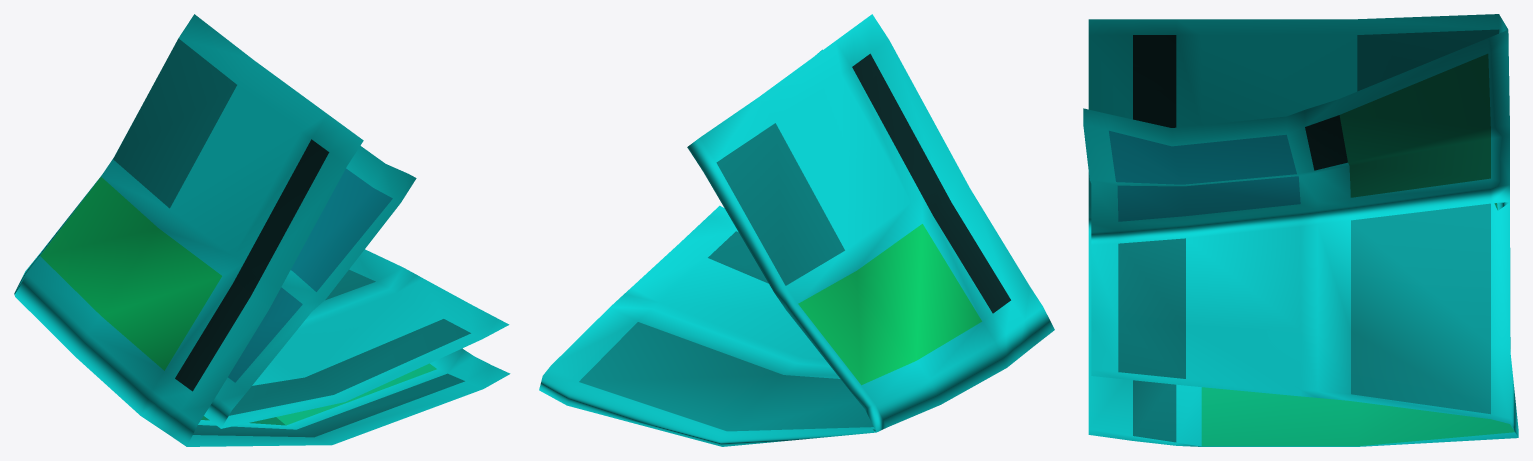
File: OldNewspaper001.glb
3 renders of one model, left to right at view 1: azimuth 30°, elevation 25°; view 2: azimuth 150°, elevation 25°; view 3: azimuth 270°, elevation 25°, orthographic. The views are drawn at different scales.
Visible parts, largest first — view 1: OldNewspaper001; view 2: OldNewspaper001; view 3: OldNewspaper001.
Boxes of the visible parts, x1=… form: OldNewspaper001: x1=14, y1=14, x2=510, y2=446; OldNewspaper001: x1=539, y1=14, x2=1054, y2=446; OldNewspaper001: x1=1083, y1=14, x2=1518, y2=446.
Bounding box in the file's own units: 0.0516 × 0.0473 × 0.0486.
